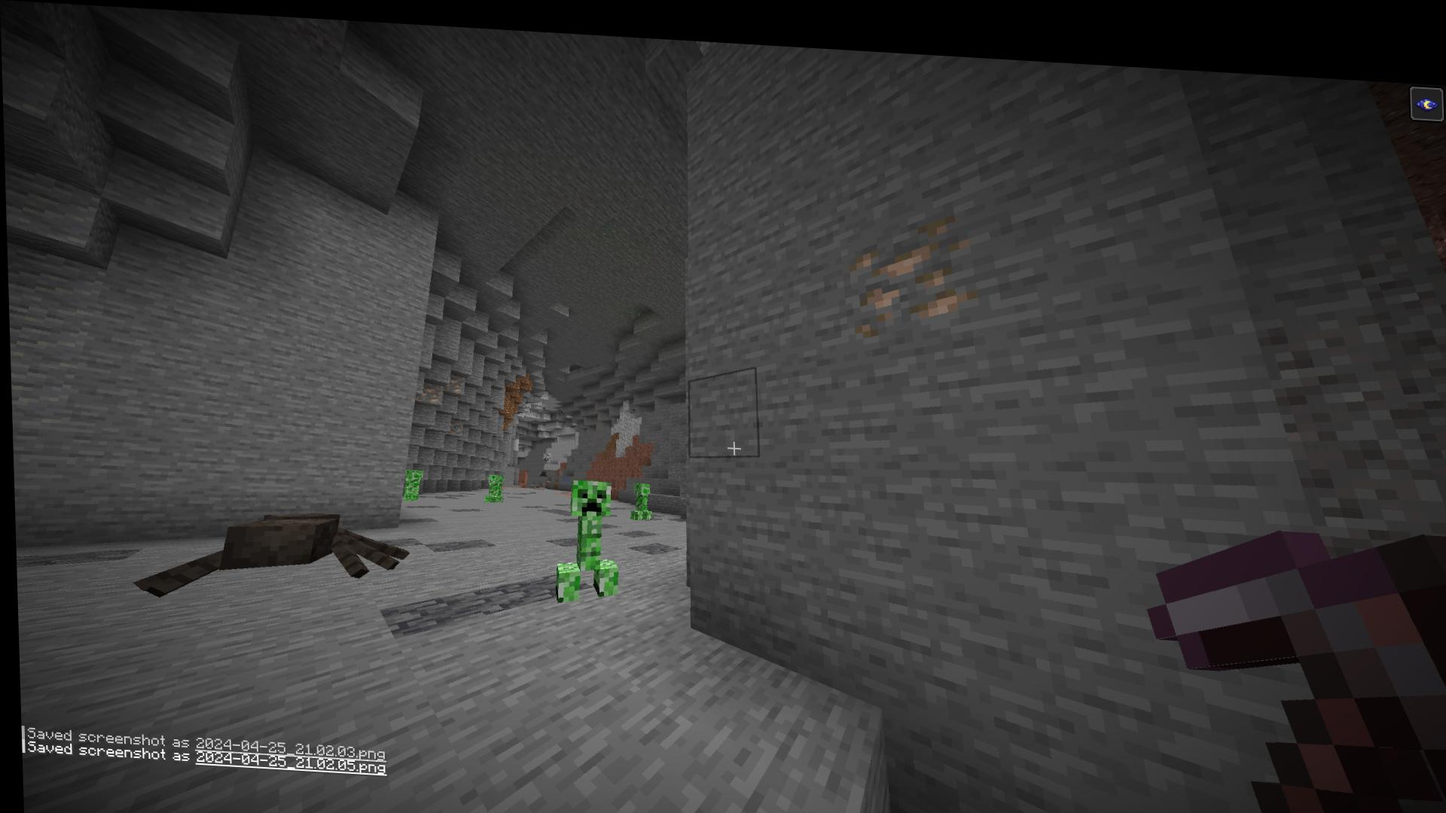iron ore: (841, 207, 975, 314), (438, 366, 464, 394), (412, 377, 437, 401)
